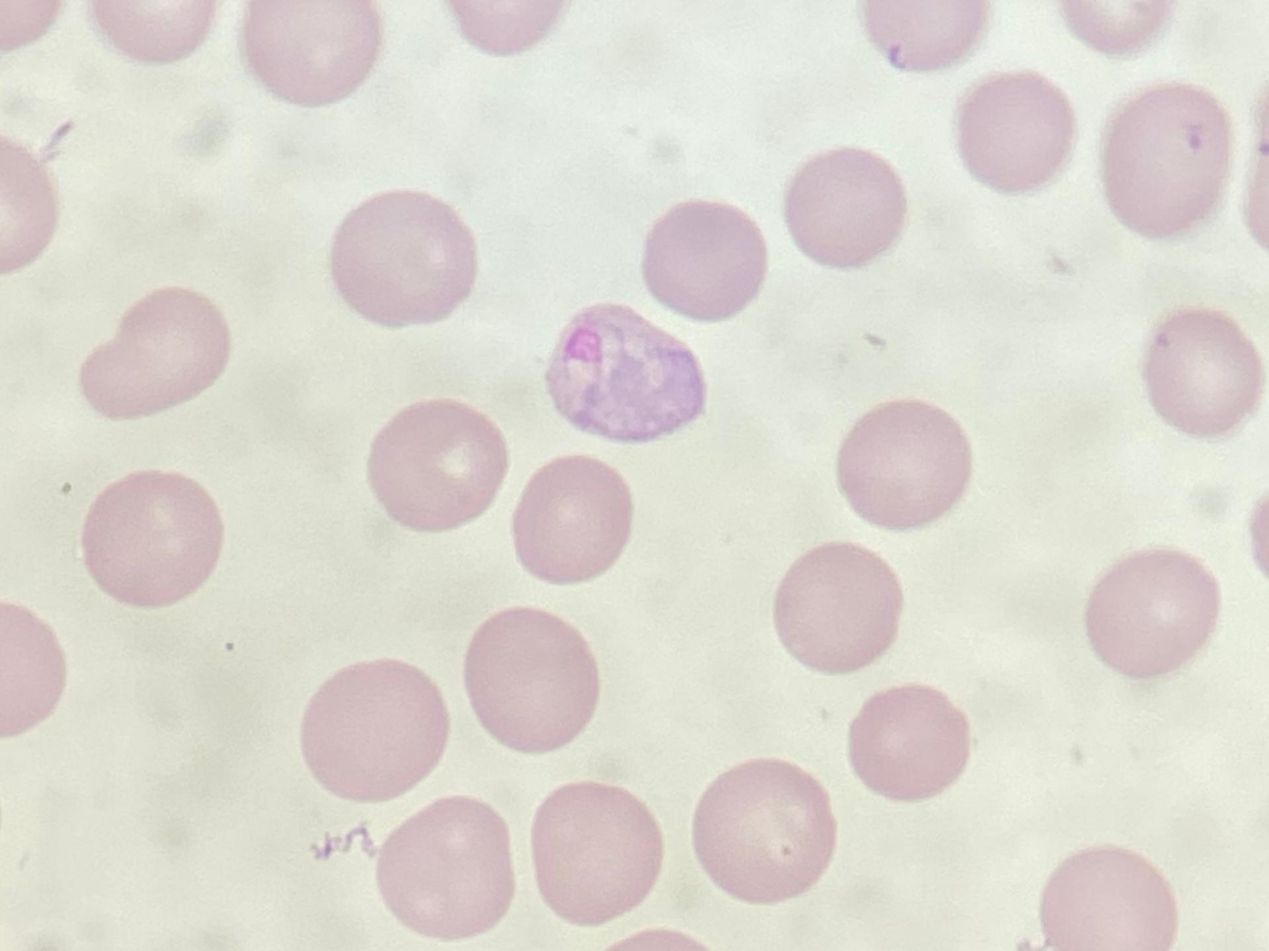Infected: (542, 303, 712, 440)
Uninfected: (302, 658, 453, 807), (1100, 78, 1235, 237), (692, 759, 835, 904), (78, 288, 235, 419), (332, 194, 478, 328), (530, 780, 662, 928), (464, 610, 601, 751), (86, 468, 222, 610), (378, 798, 511, 939), (836, 397, 973, 530), (1084, 547, 1222, 678), (368, 402, 507, 529), (778, 544, 902, 677), (236, 0, 381, 110), (511, 456, 633, 584), (1142, 306, 1265, 432), (646, 200, 767, 324), (1038, 846, 1180, 951), (785, 149, 905, 267), (955, 76, 1077, 192), (851, 686, 969, 799)
